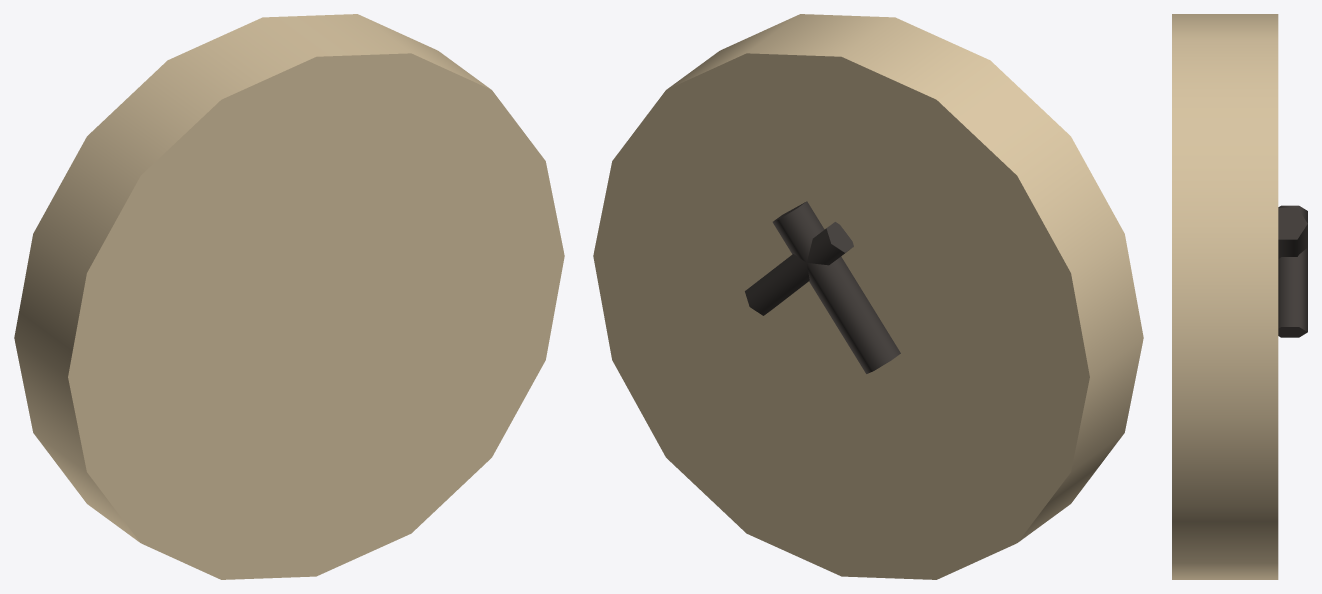
The model's file is clock.glb.
The picture shows the model from 3 angles, left to right: view 1: azimuth 30°, elevation 25°; view 2: azimuth 150°, elevation 25°; view 3: azimuth 270°, elevation 25°; orthographic projection.
Parts seen in each view (by area): view 1: clock; view 2: clock; view 3: clock.
Boxes of the visible parts, x1,y1,x2,y2 form: clock: (14,14,564,579); clock: (593,14,1143,579); clock: (1172,14,1307,579).
Bounding box in the file's own units: 0.96 × 0.96 × 0.23.
